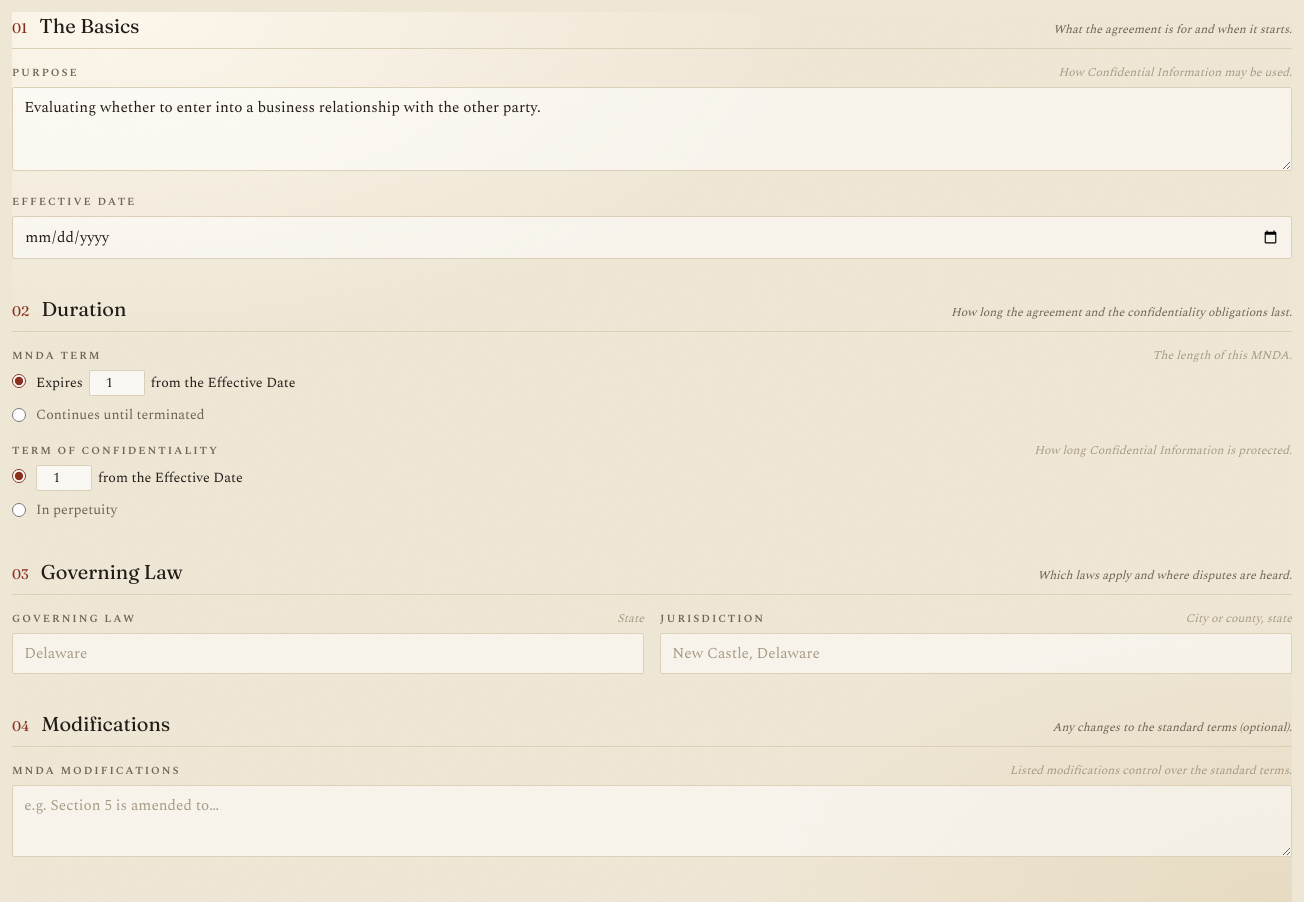
Scenario: NdaForm › disables the MNDA year input when 'until terminated' is chosen
The image size is (1304, 902).
Click the radio button labelled "Continues until terminated": (19,415) left=12, top=408, right=26, bottom=422
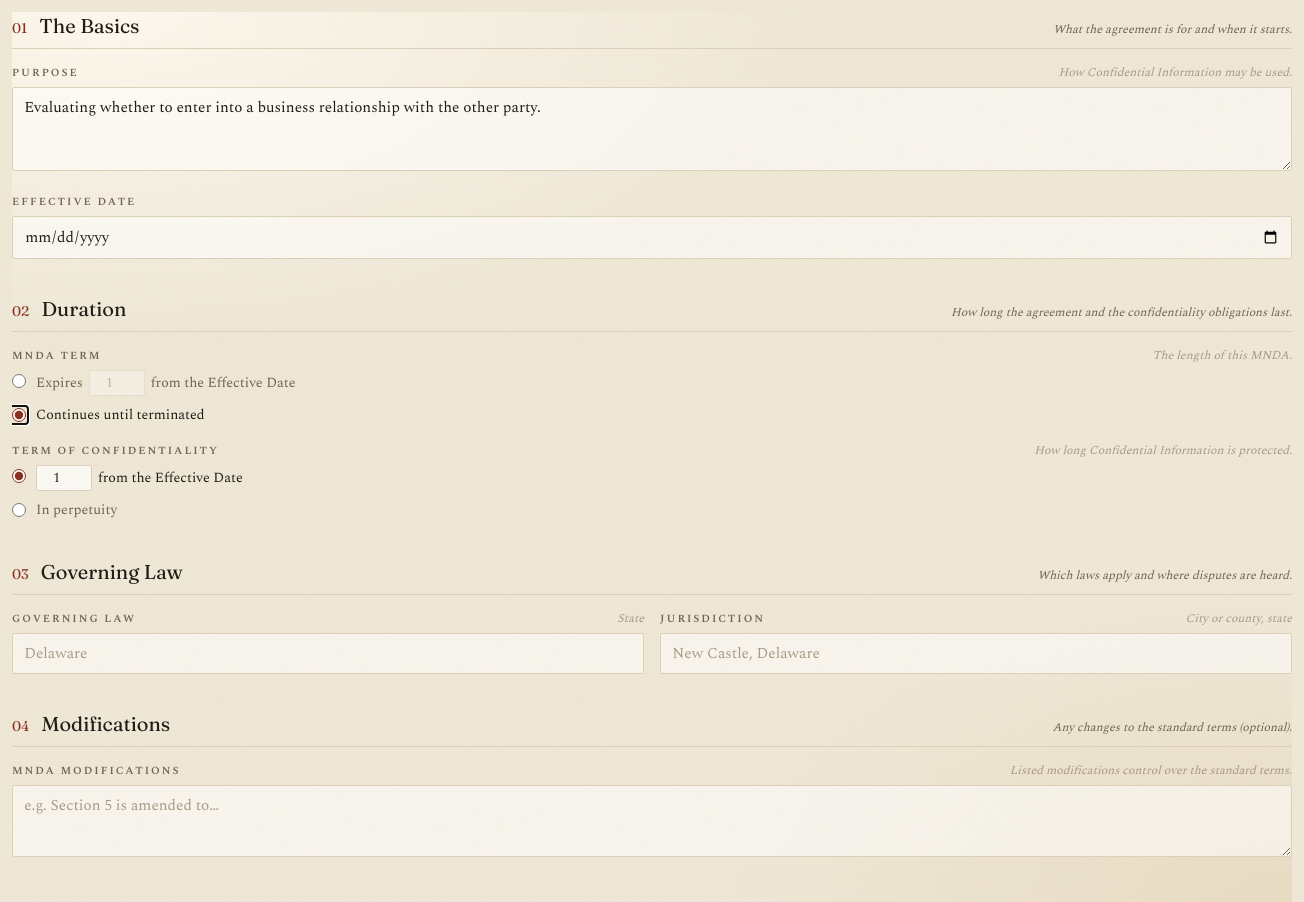
Now the number field named "Number of years" next to "Expires" is disabled, box left=89, top=370, right=145, bottom=396
